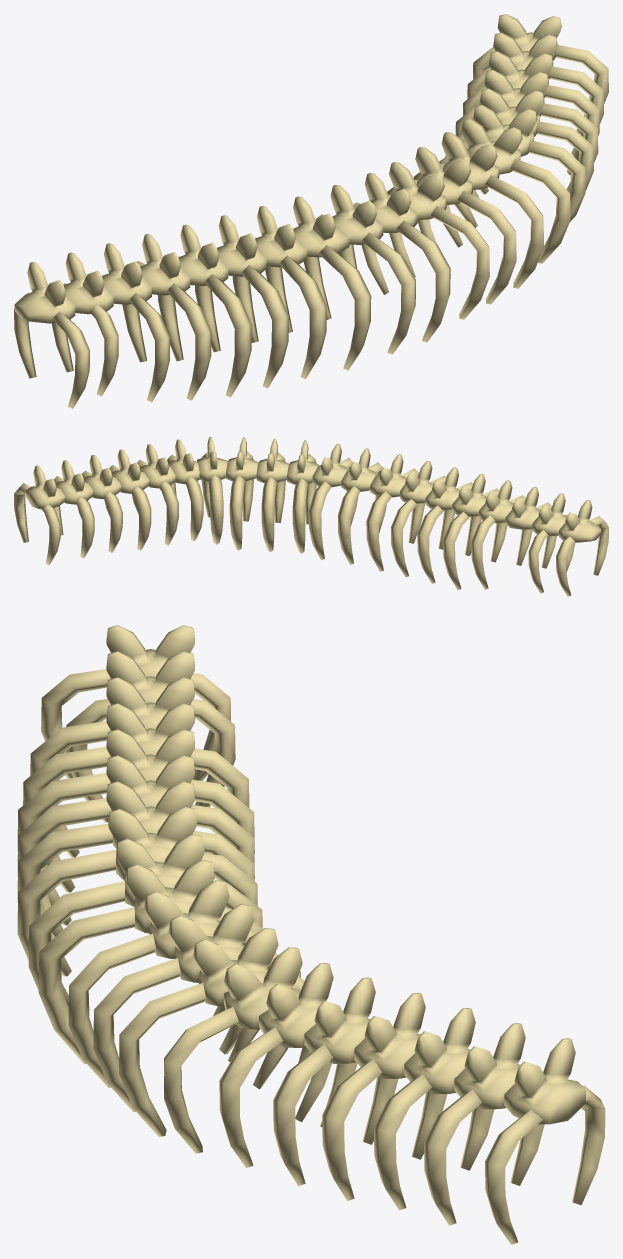
Rendered from LeviathenBody2.fbx.
3 views of the same model, one above another, from view 1: azimuth 30°, elevation 25°; view 2: azimuth 150°, elevation 25°; view 3: azimuth 270°, elevation 25° (orthographic). The views are drawn at different scales.
Visible parts, largest first — view 1: Leviathen-1.002; view 2: Leviathen-1.002; view 3: Leviathen-1.002.
Boxes of the visible parts, x1,y1,x2,y2 form: Leviathen-1.002: (14, 14, 608, 408); Leviathen-1.002: (14, 437, 608, 596); Leviathen-1.002: (17, 625, 605, 1244).
Bounding box in the file's own units: 5225 × 1002 × 2694.
